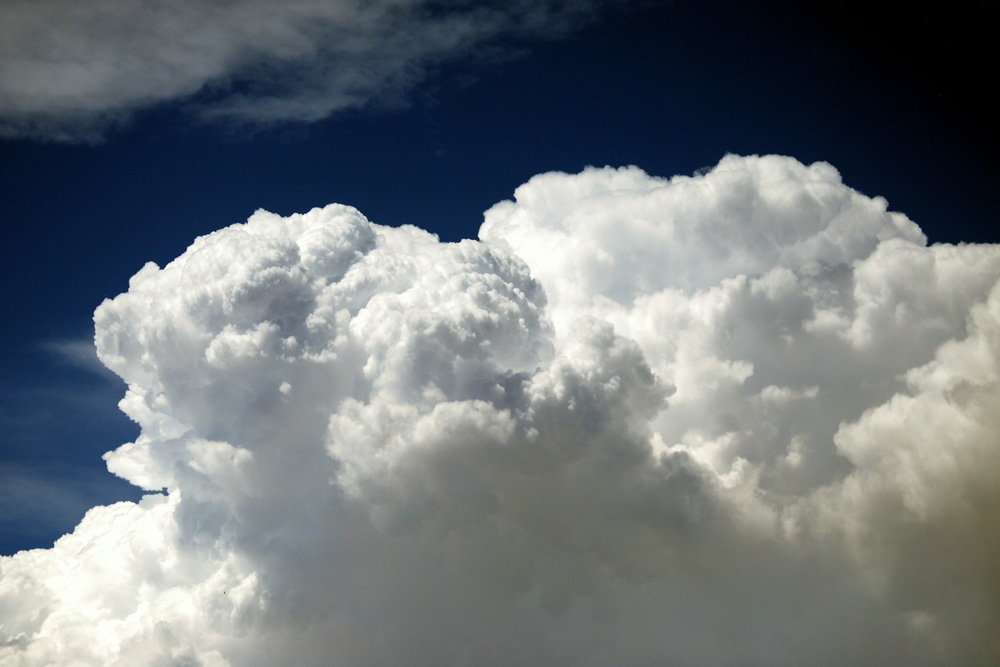Cumulus: (80, 183, 675, 667), (492, 130, 996, 635)
